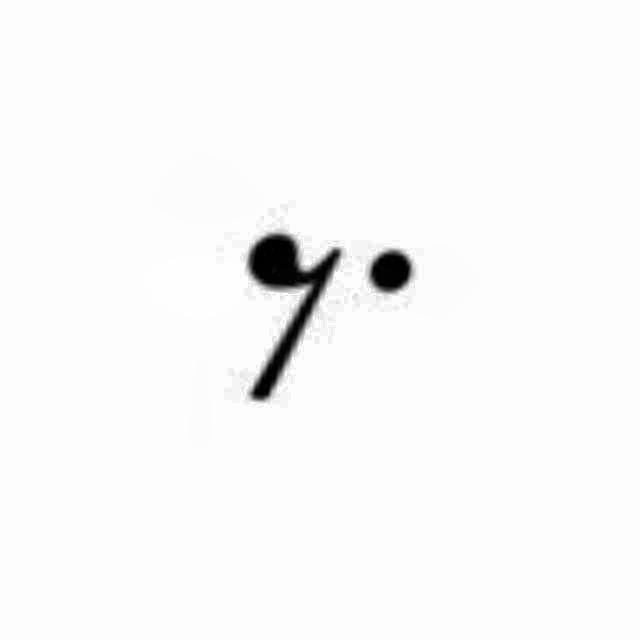Eighth-rest: (220, 229, 428, 411)
